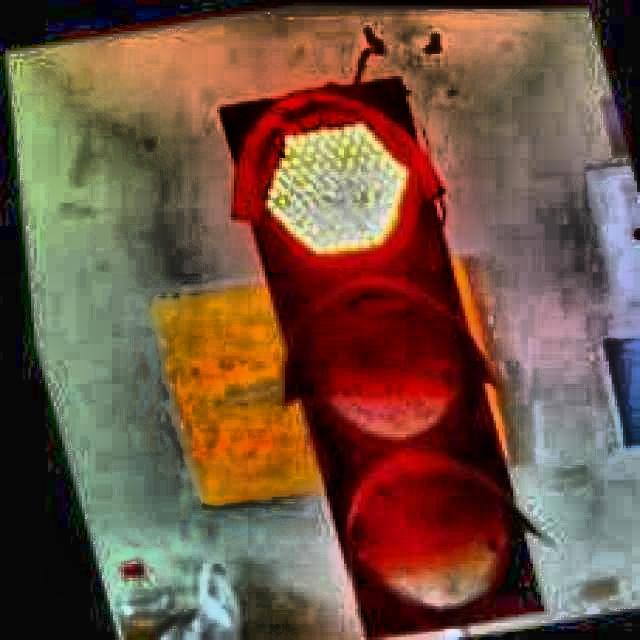red: (225, 82, 544, 614)
